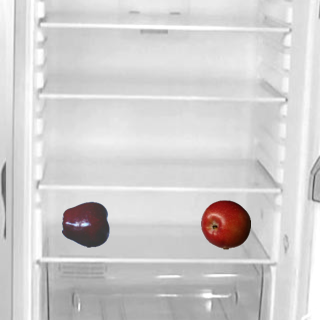Apple Braeburn: (200, 199, 250, 249)
Apple Red Delicious: (61, 199, 111, 249)
